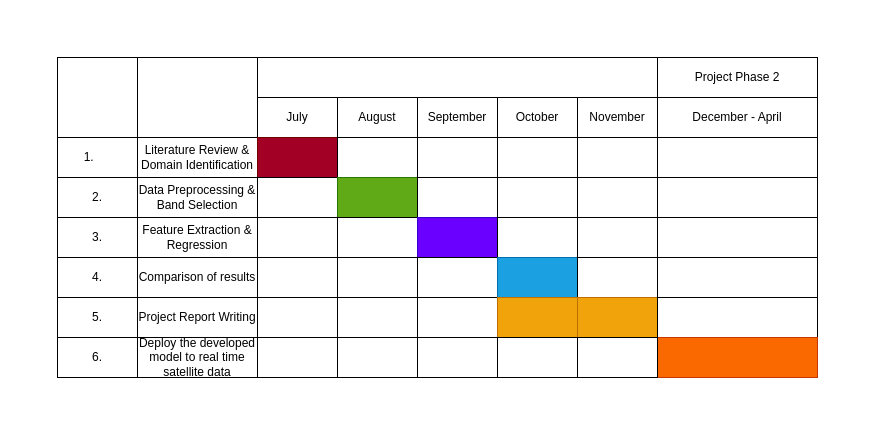
Image size: 875x435. Some labels were removed from this diagram. The centre of each missing label's shape, as x and y in pixels:
"Project Phase 1" belongs at (457,77).
"S.No" belongs at (97,97).
"Task Name" belongs at (197,97).
